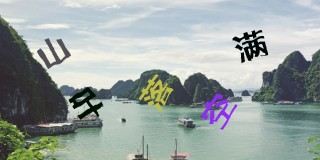叶: (69, 86, 104, 121)
山: (35, 35, 71, 68)
满: (231, 27, 268, 63)
空: (199, 90, 237, 131)
落: (140, 72, 174, 111)
